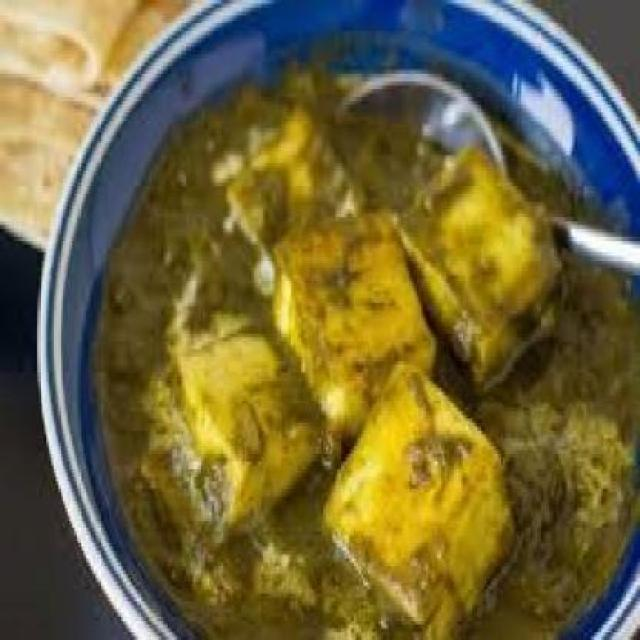palak_paneer: (91, 46, 640, 640)
